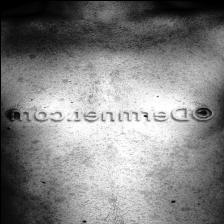Toxin: (6, 126, 176, 224), (1, 43, 114, 102)
